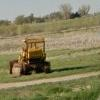Tractor: (10, 31, 58, 80)
